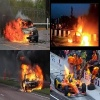fire: (5, 16, 30, 45), (21, 64, 43, 92), (64, 64, 91, 86), (68, 26, 91, 46)
